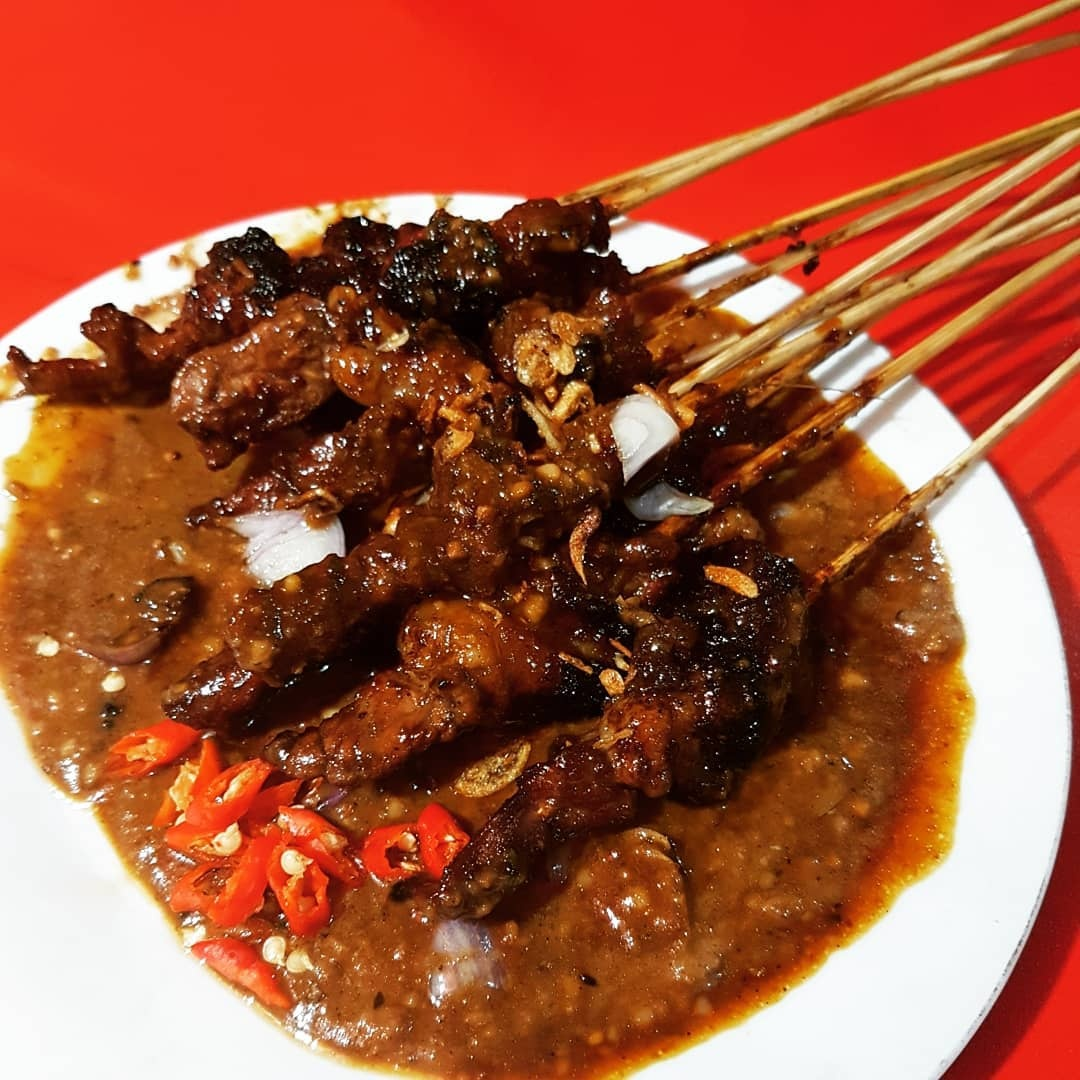sate: (4, 192, 900, 963)
